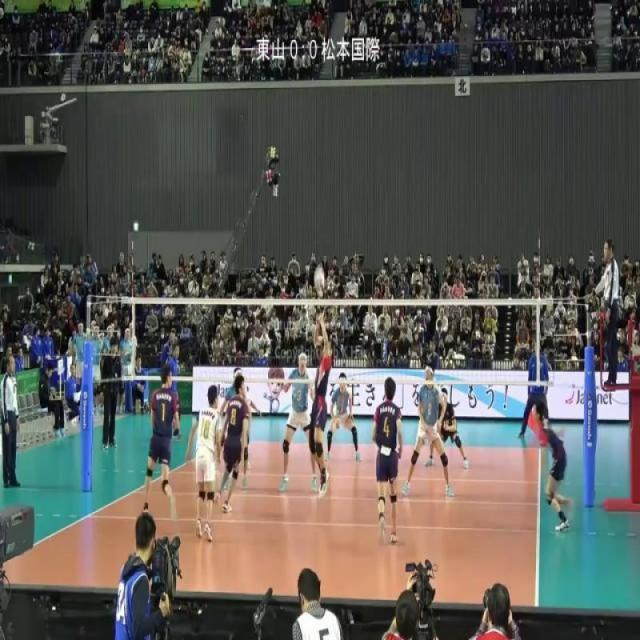volleyball: (314, 266, 326, 290)
